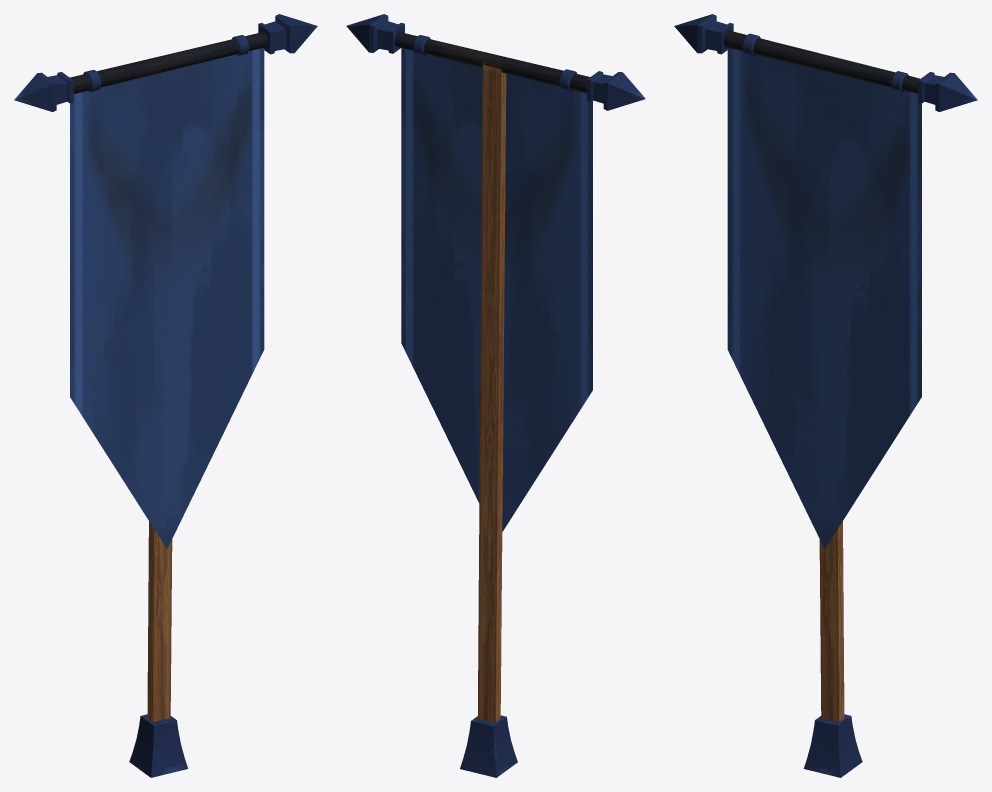
File: Banner_Vertical_2.gltf
3 renders of one model, left to right at view 1: azimuth 30°, elevation 25°; view 2: azimuth 150°, elevation 25°; view 3: azimuth 330°, elevation 25°, orthographic.
Parts seen in each view (by area): view 1: Banner_Vertical_2; view 2: Banner_Vertical_2; view 3: Banner_Vertical_2.
Boxes of the visible parts, left/top/right/bottom form: Banner_Vertical_2: left=14, top=14, right=317, bottom=777; Banner_Vertical_2: left=346, top=14, right=645, bottom=777; Banner_Vertical_2: left=674, top=14, right=977, bottom=777.
Size of the model in its own units: 1.04 by 2.35 by 0.1525.
4 materials, 4 textured.
